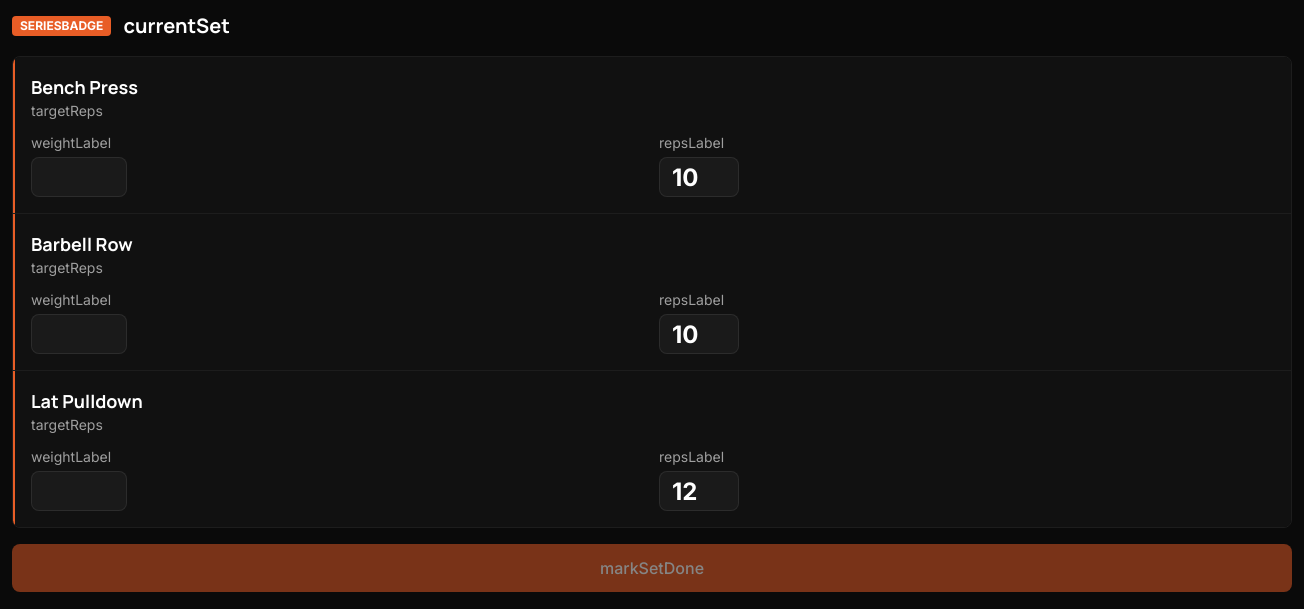
Scenario: SeriesSetLogger › button is enabled when all required inputs filled across all exercises
Type "80" into the number field named "Bench Press weight kg".
click(79, 177); type("80")  # box [31, 157, 127, 197]
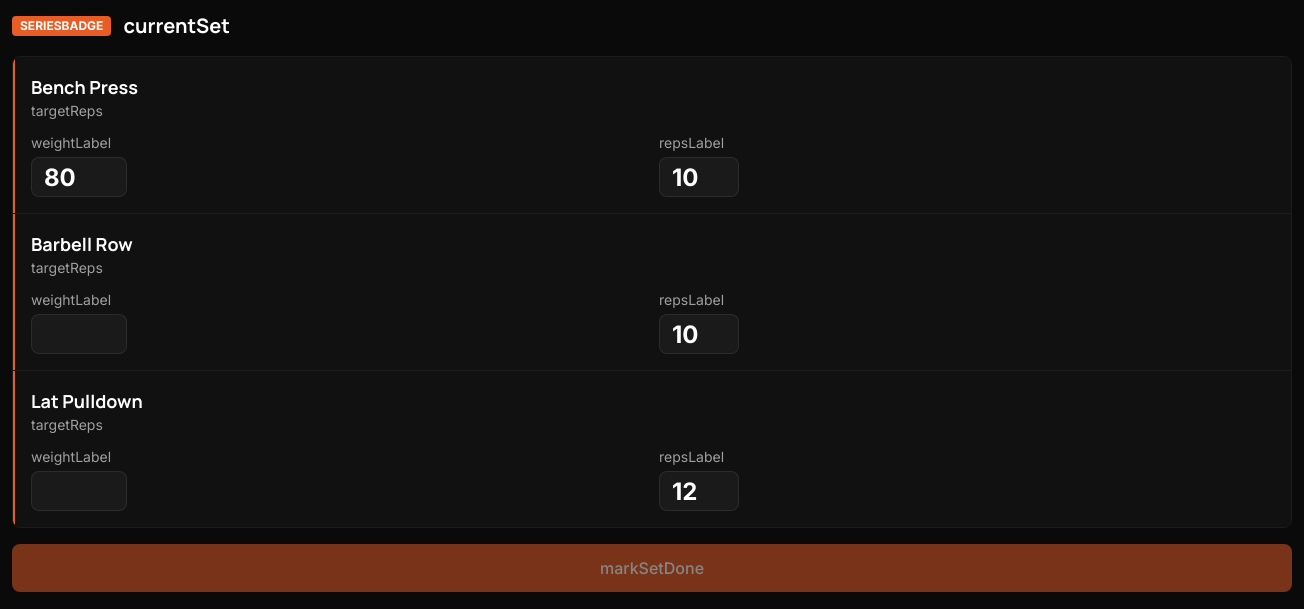
Type "60" into the number field named "Barbell Row weight kg".
click(79, 334); type("60")  # box [31, 314, 127, 354]
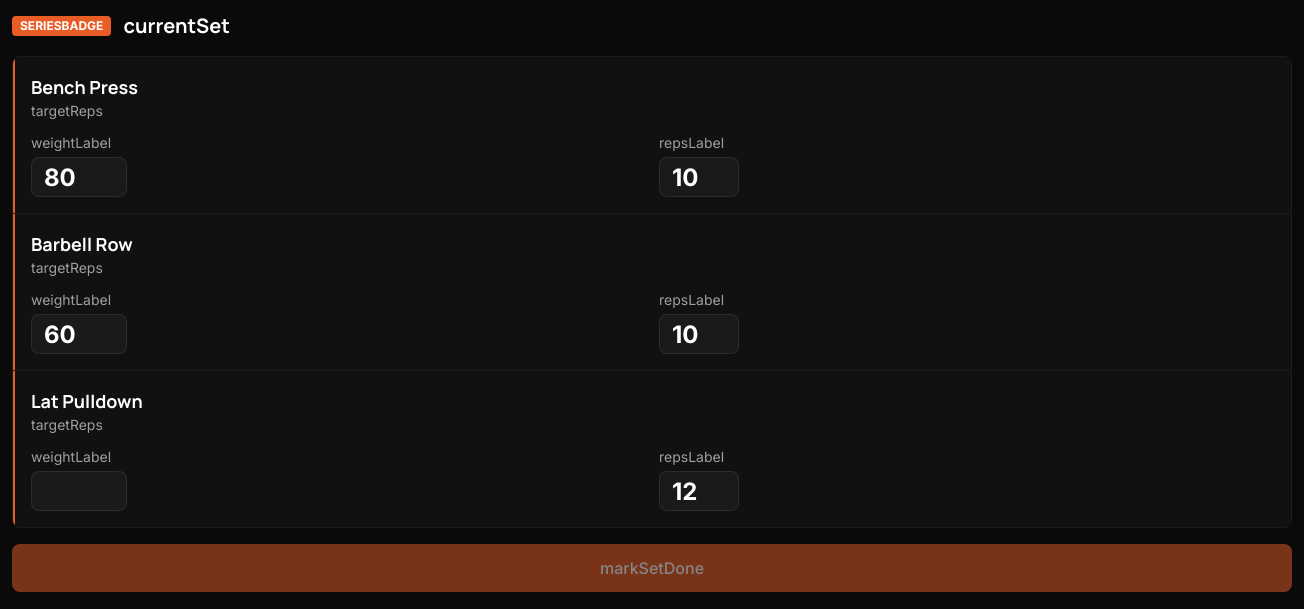
Type "40" into the number field named "Lat Pulldown weight kg".
click(79, 491); type("40")  # box [31, 471, 127, 511]
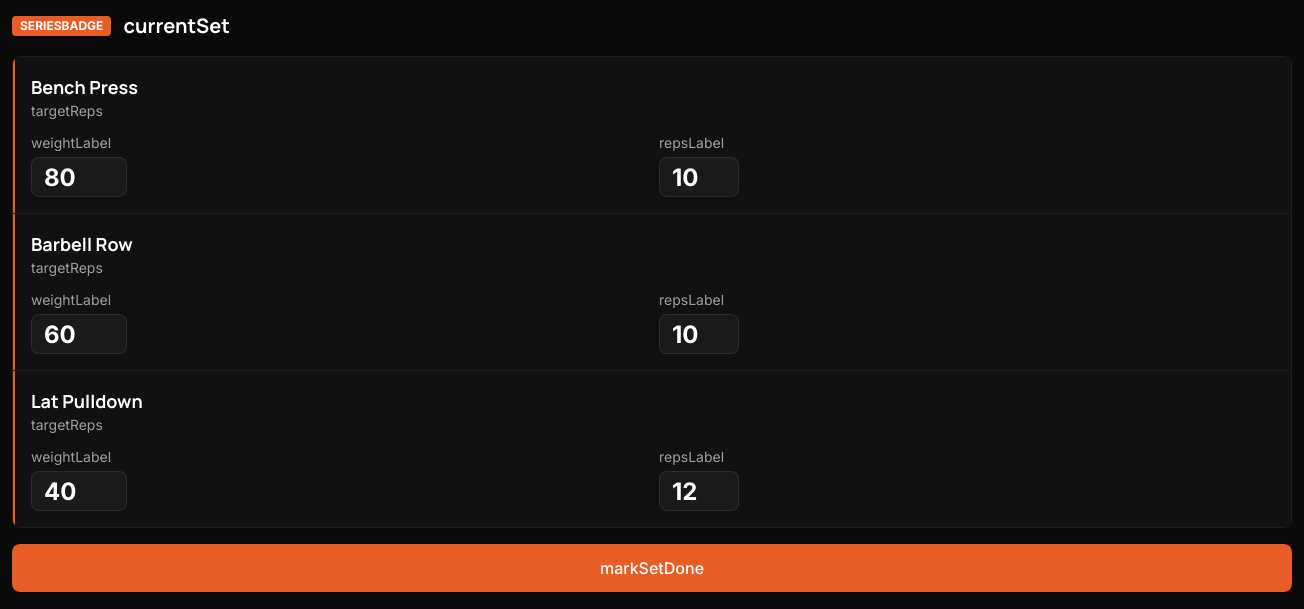
expect the button "markSetDone" is enabled: met, box [12, 544, 1292, 592]
